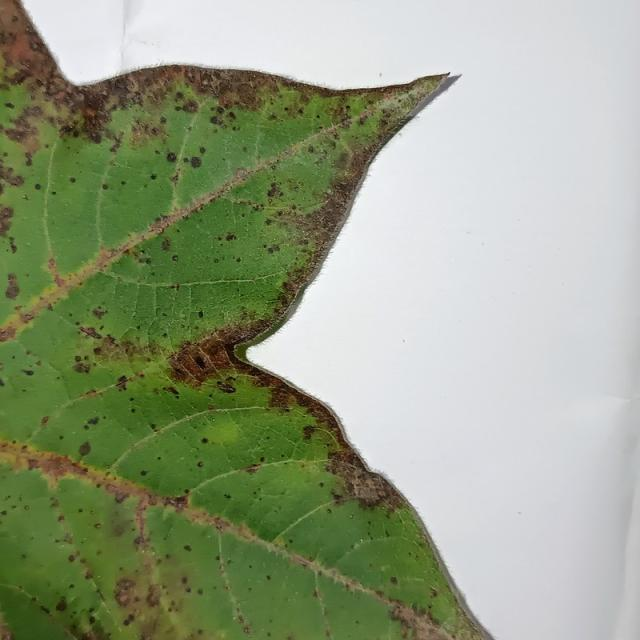Bacterial_Blight: (335, 462, 432, 526), (208, 310, 271, 350), (4, 22, 47, 74), (28, 449, 87, 486), (2, 111, 43, 155), (87, 587, 117, 633), (71, 342, 110, 376), (348, 475, 386, 507), (405, 612, 448, 640), (390, 603, 424, 636), (113, 327, 151, 353), (114, 577, 139, 608), (172, 68, 208, 89), (137, 613, 164, 640), (111, 366, 134, 395), (104, 130, 125, 157), (164, 490, 191, 510), (5, 272, 21, 301), (144, 584, 162, 608), (3, 169, 25, 188), (333, 149, 352, 170), (79, 325, 102, 340), (17, 307, 37, 324), (181, 98, 199, 114), (301, 424, 317, 441), (217, 381, 236, 394), (78, 440, 92, 457), (267, 183, 282, 198), (83, 106, 98, 121), (73, 362, 90, 374), (163, 385, 179, 397), (92, 306, 106, 319), (8, 238, 18, 255), (194, 356, 207, 369), (358, 110, 371, 123), (55, 599, 67, 613), (331, 490, 344, 502), (133, 534, 146, 546), (161, 237, 172, 251), (265, 244, 280, 254), (190, 156, 202, 168), (86, 415, 99, 426), (210, 115, 223, 126), (123, 614, 134, 626), (166, 152, 177, 163), (429, 587, 439, 598), (225, 232, 237, 241), (41, 415, 50, 427), (22, 369, 34, 376), (68, 554, 77, 563), (4, 102, 15, 109), (183, 544, 192, 552), (390, 576, 398, 585), (325, 187, 334, 195), (237, 615, 244, 624), (243, 626, 250, 635), (140, 470, 148, 477), (181, 576, 188, 584), (57, 515, 65, 522), (34, 183, 42, 190), (199, 146, 206, 154), (89, 616, 96, 624), (201, 437, 208, 444), (197, 461, 204, 468), (102, 183, 109, 190), (184, 488, 191, 495), (150, 173, 157, 180), (197, 588, 204, 595), (223, 493, 231, 499), (198, 310, 204, 318), (94, 523, 102, 529), (129, 81, 135, 89), (259, 456, 265, 463), (69, 177, 76, 183), (172, 255, 178, 262), (145, 258, 152, 264), (215, 554, 221, 561), (236, 257, 242, 263), (345, 104, 351, 110), (120, 180, 126, 186), (22, 194, 28, 200), (143, 636, 151, 640), (213, 258, 219, 263), (59, 434, 64, 440), (51, 191, 57, 196), (266, 575, 271, 580), (316, 114, 321, 119), (288, 539, 293, 544), (157, 456, 162, 461), (354, 620, 359, 625), (379, 72, 383, 77), (349, 514, 353, 518), (212, 418, 216, 422), (402, 339, 405, 343)
Cotton: (0, 0, 482, 639)
